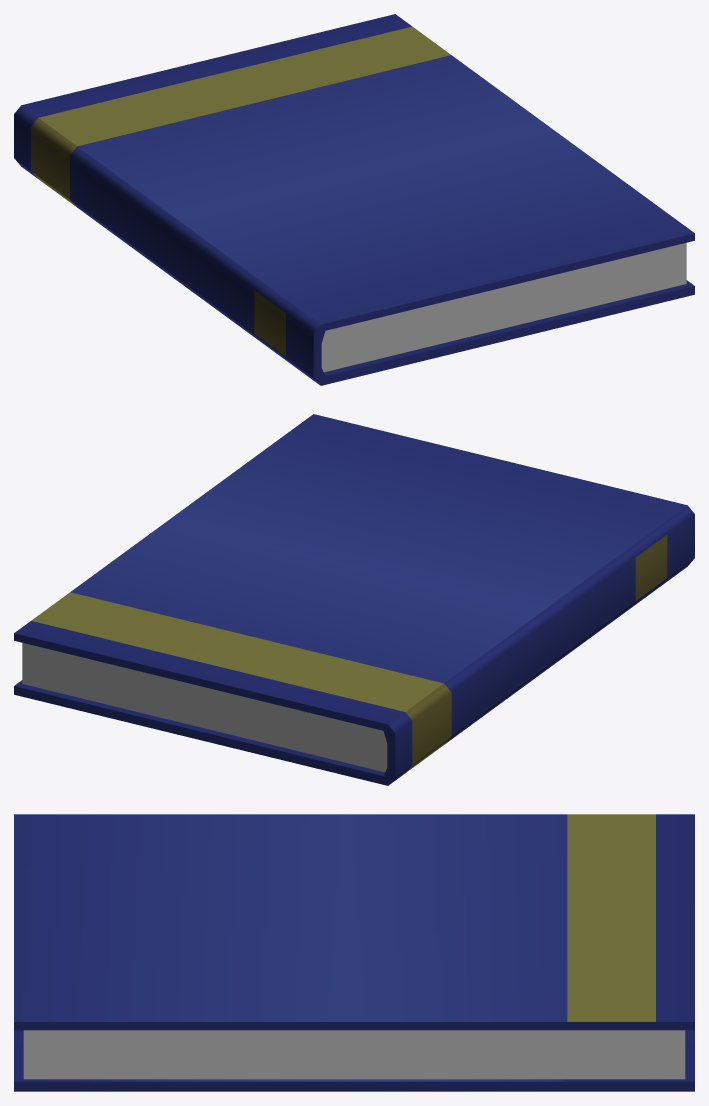
The model's file is human-household-items-book_v8.glb.
The picture shows the model from 3 angles, top to bottom: view 1: azimuth 30°, elevation 25°; view 2: azimuth 150°, elevation 25°; view 3: azimuth 270°, elevation 25°; orthographic projection. The views are drawn at different scales.
Visible parts, largest first — view 1: Book_v8; view 2: Book_v8; view 3: Book_v8.
Part boxes in pixels (x1,y1,x2,y2): Book_v8: [14, 14, 694, 385]; Book_v8: [14, 414, 694, 785]; Book_v8: [14, 814, 694, 1091].
Bounding box in the file's own units: 0.1837 × 0.0283 × 0.25.
